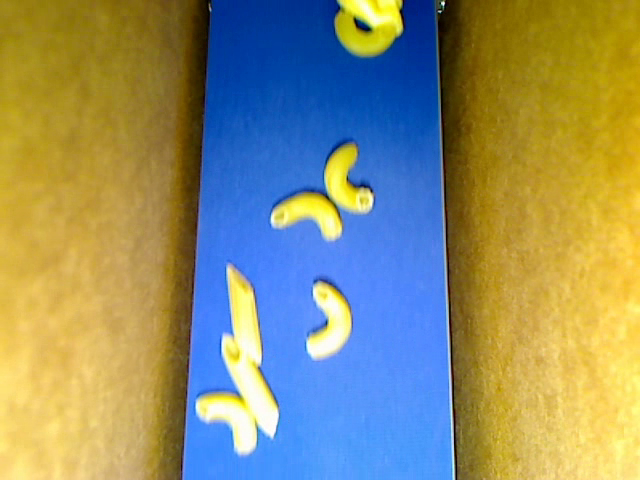elbow: (196, 390, 257, 456), (305, 280, 353, 361), (323, 141, 374, 214), (270, 191, 343, 241), (335, 10, 396, 58)
penne: (220, 331, 279, 441), (225, 262, 262, 366)
